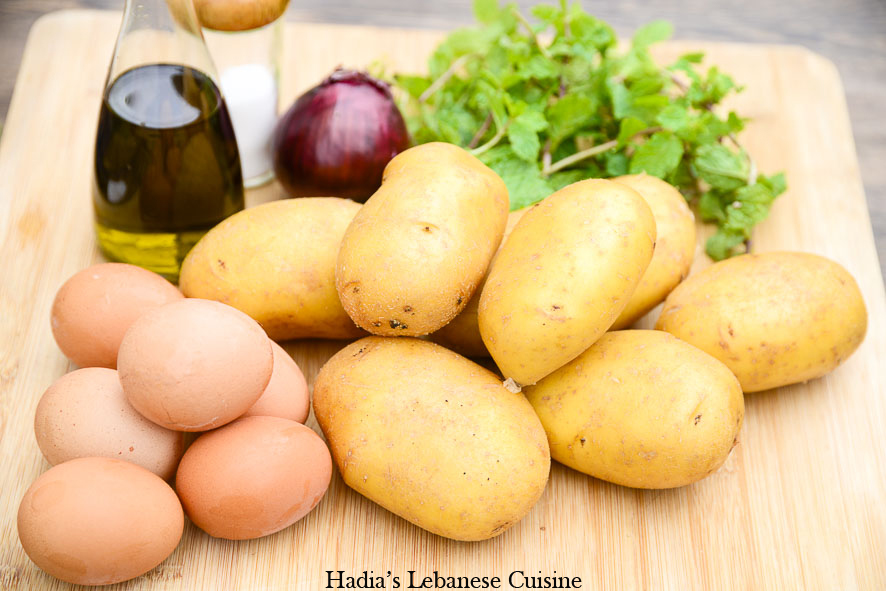boiled potatoes: (323, 341, 562, 552), (541, 322, 750, 495), (500, 171, 650, 385), (339, 149, 510, 329), (663, 246, 863, 387), (181, 208, 379, 319)
